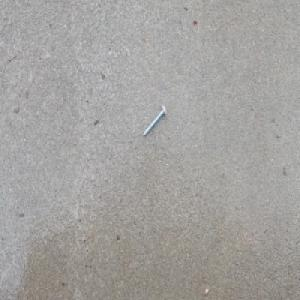Nail: (144, 107, 168, 139)
